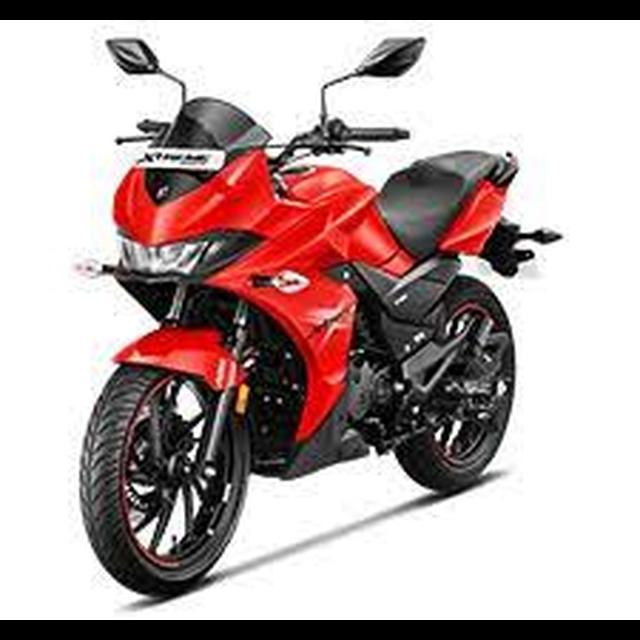motorcycle: (75, 31, 569, 603)
